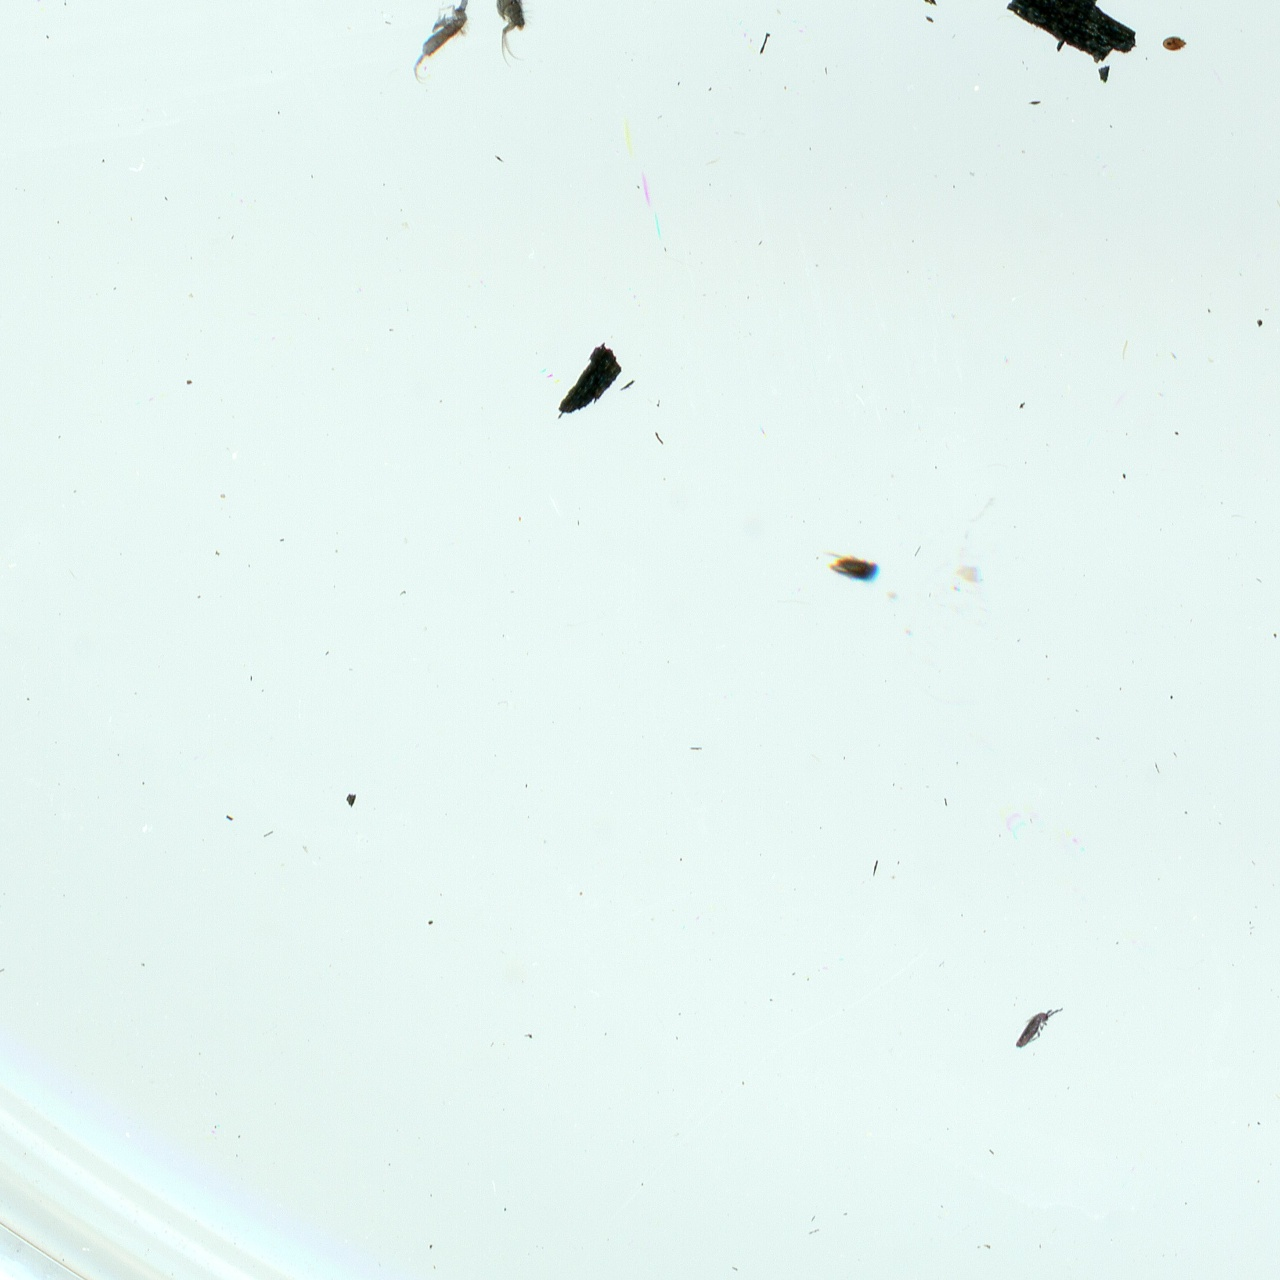arthropod: (395, 0, 490, 102), (438, 0, 547, 66), (1008, 1004, 1071, 1052), (1162, 35, 1188, 54)
